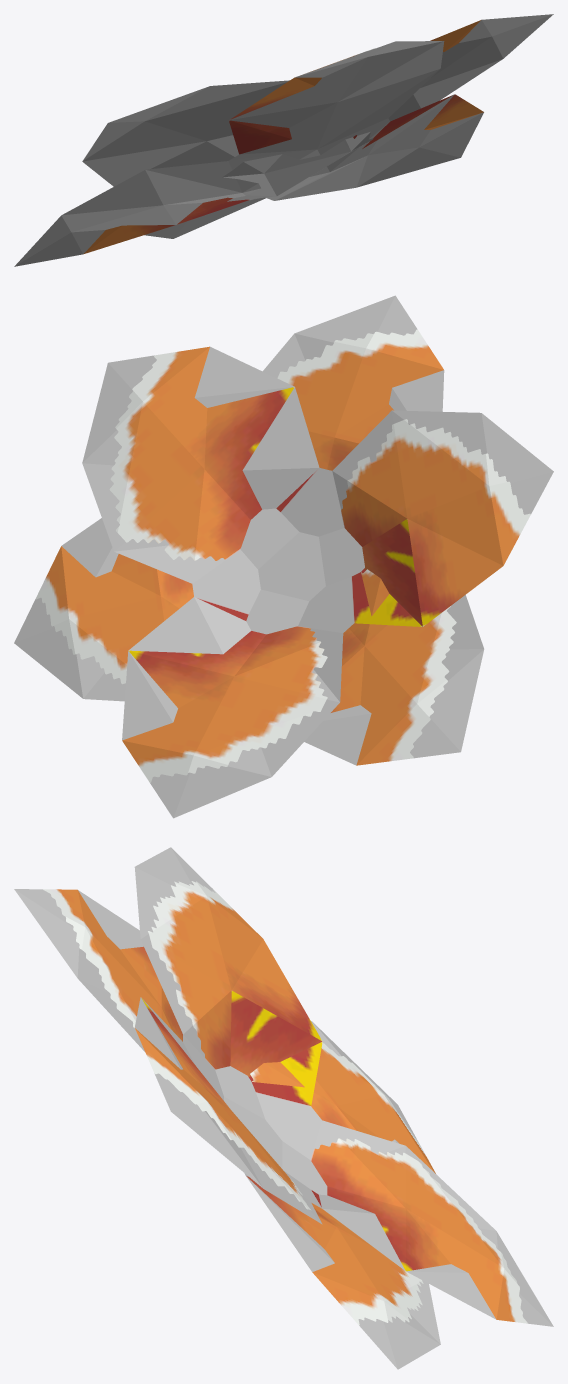
The model's file is BR_Meganium-Shiny01.obj.
The picture shows the model from 3 angles, top to bottom: view 1: azimuth 30°, elevation 25°; view 2: azimuth 150°, elevation 25°; view 3: azimuth 270°, elevation 25°; orthographic projection. The views are drawn at different scales.
Visible parts, largest first — view 1: meganium; view 2: meganium; view 3: meganium.
Boxes of the visible parts, x1,y1,x2,y2 form: meganium: (14, 14, 553, 266); meganium: (14, 295, 553, 818); meganium: (14, 847, 553, 1369).
Size of the model in its own units: 12.39 by 9.55 by 10.67.
